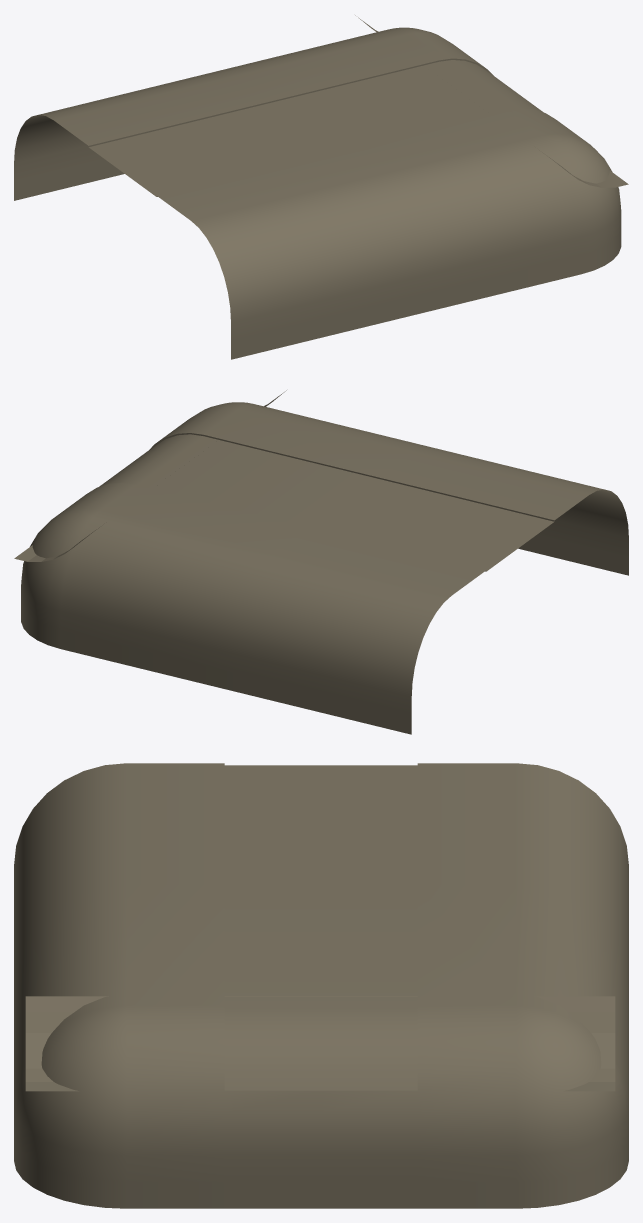
File: SM_interior_wallcombo_half.fbx
3 views of the same model, one above another, from view 1: azimuth 30°, elevation 25°; view 2: azimuth 150°, elevation 25°; view 3: azimuth 270°, elevation 25° (orthographic). The views are drawn at different scales.
Visible parts, largest first — view 1: interior_wallcombo_half; view 2: interior_wallcombo_half; view 3: interior_wallcombo_half.
Part boxes in pixels (left/top/right/bottom): interior_wallcombo_half: left=14, top=15, right=628, bottom=359; interior_wallcombo_half: left=14, top=390, right=628, bottom=734; interior_wallcombo_half: left=14, top=763, right=628, bottom=1208.
Size of the model in its own units: 700 by 175 by 627.
